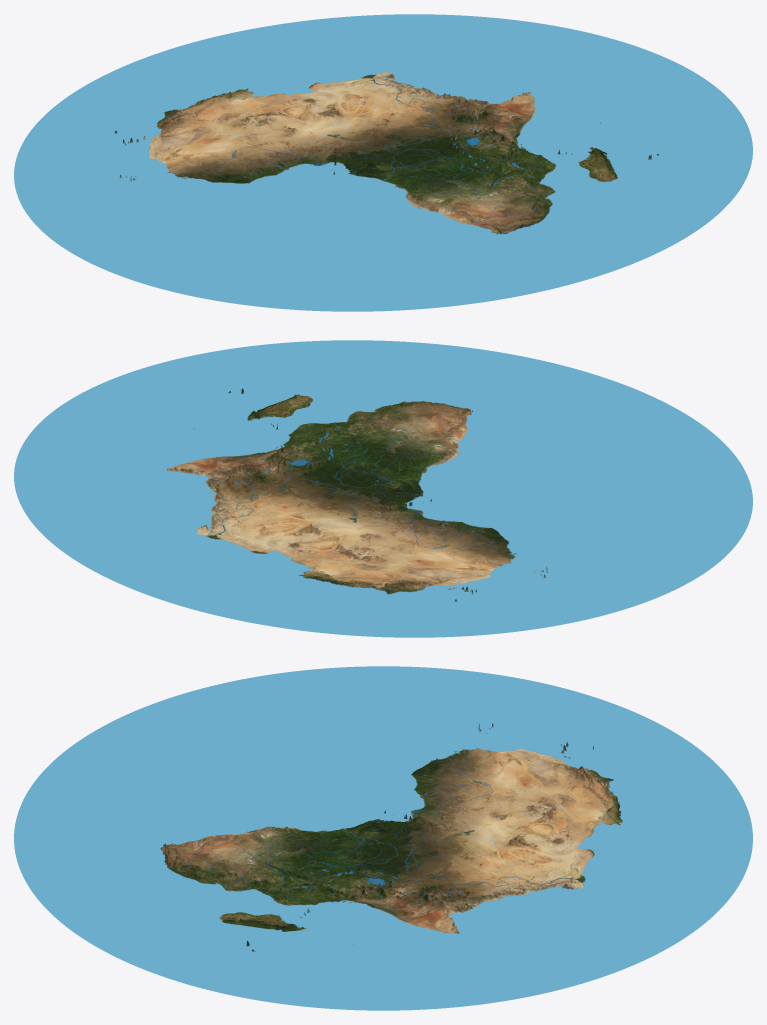
Rendered from africa-terrain.glb.
The picture shows the model from 3 angles, top to bottom: view 1: azimuth 30°, elevation 25°; view 2: azimuth 150°, elevation 25°; view 3: azimuth 270°, elevation 25°; orthographic projection. The views are drawn at different scales.
Visible parts, largest first — view 1: Superfície geográfica; view 2: Superfície geográfica; view 3: Superfície geográfica.
Part boxes in pixels (x1,y1,x2,y2): Superfície geográfica: (14, 14, 752, 311); Superfície geográfica: (14, 340, 752, 637); Superfície geográfica: (14, 666, 752, 1010).
Bounding box in the file's own units: 2.51 × 0.0364 × 2.28.
Materials: 2 (1 with a texture image).
